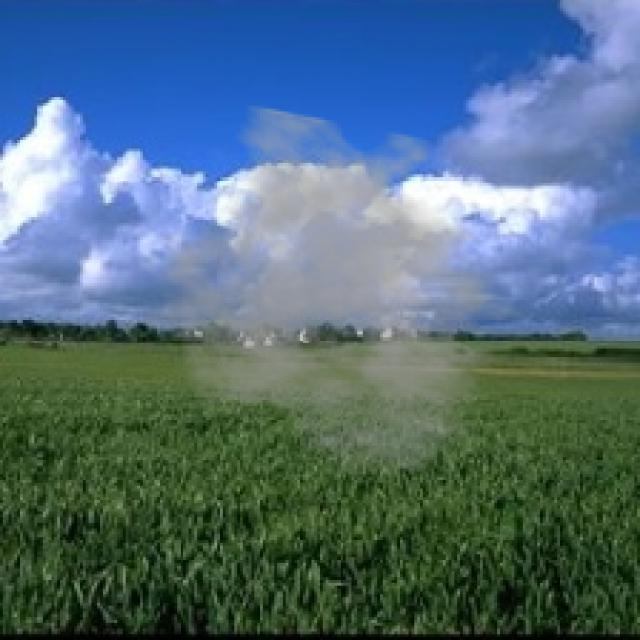Smoke: (140, 103, 537, 480)
